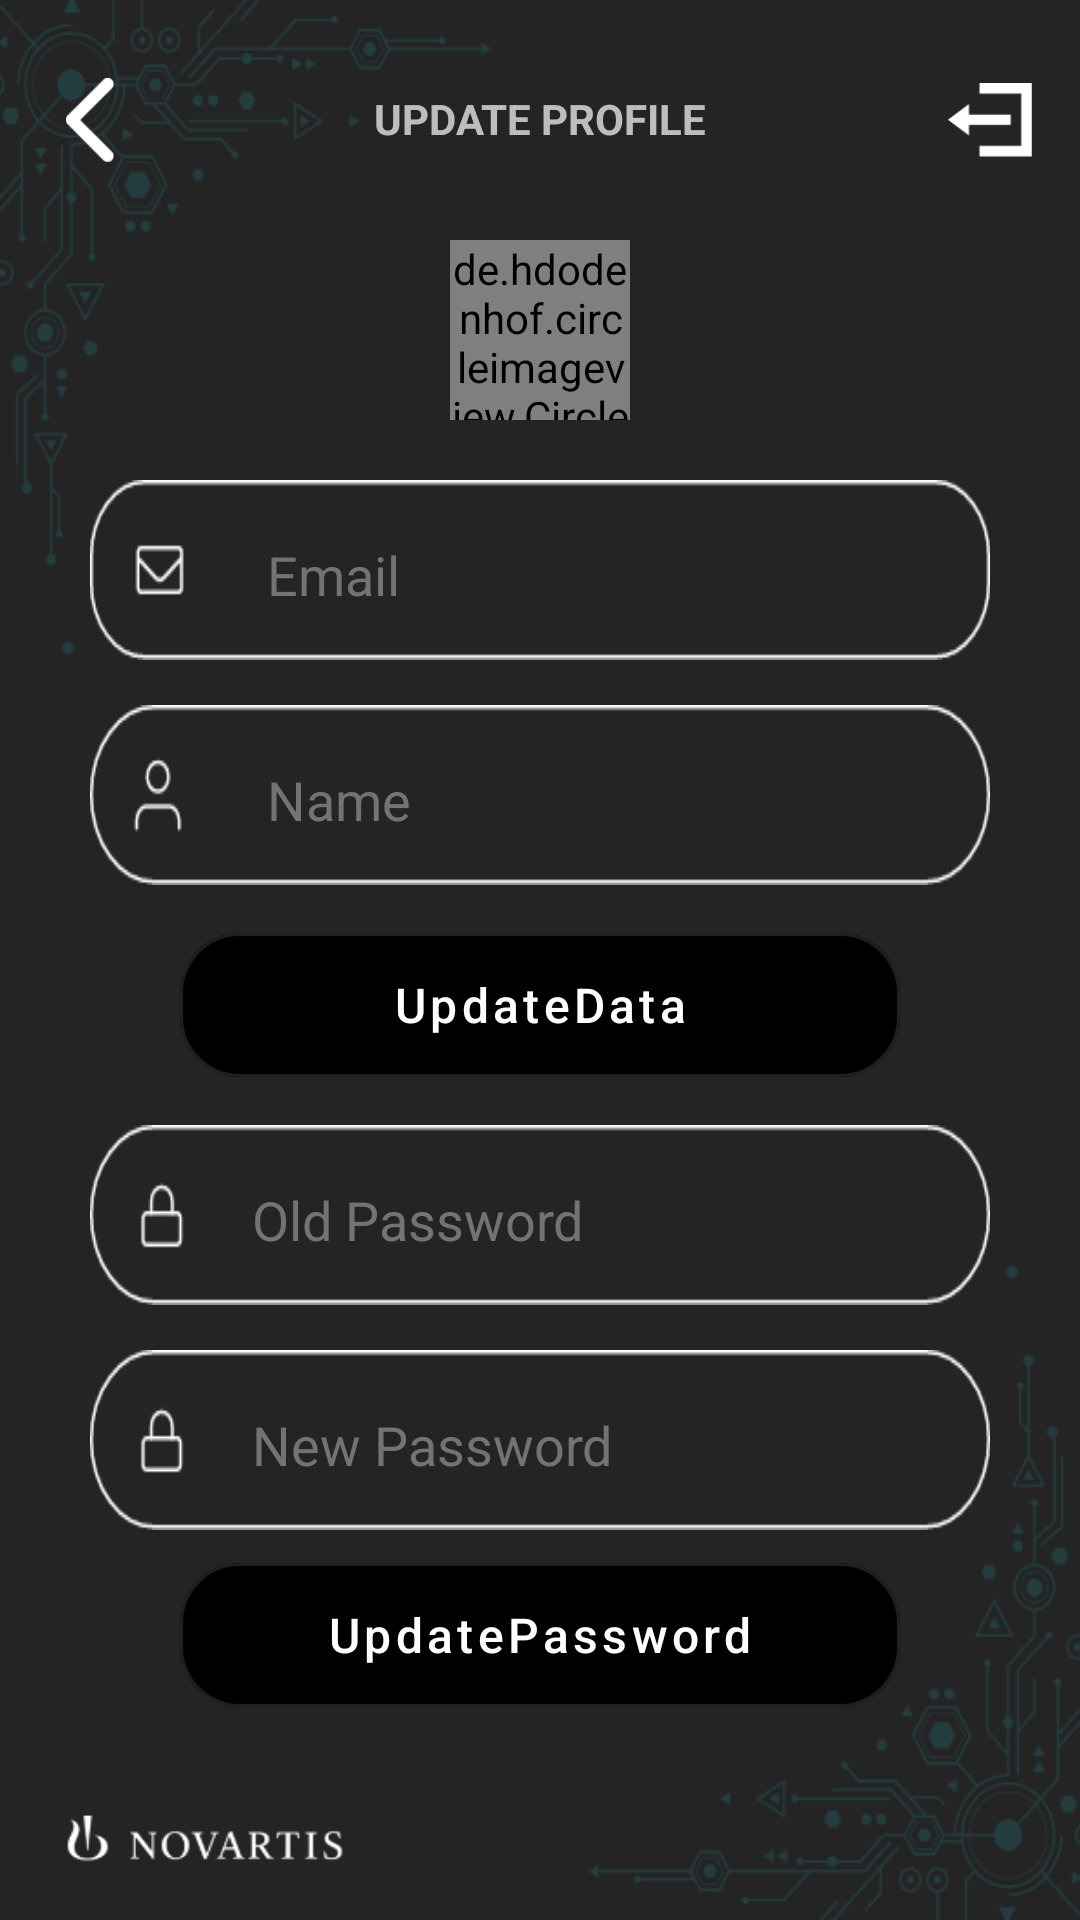

Icon click points for this 1080px×1920px phone screenshot, format (x,y):
back: (98,120)
